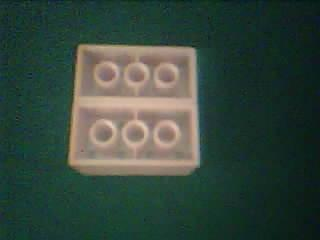lego: (66, 43, 201, 176)
